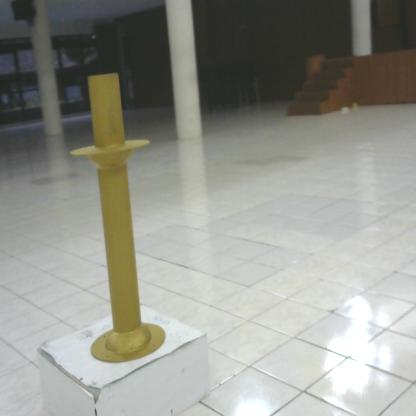pole: (65, 64, 173, 367)
